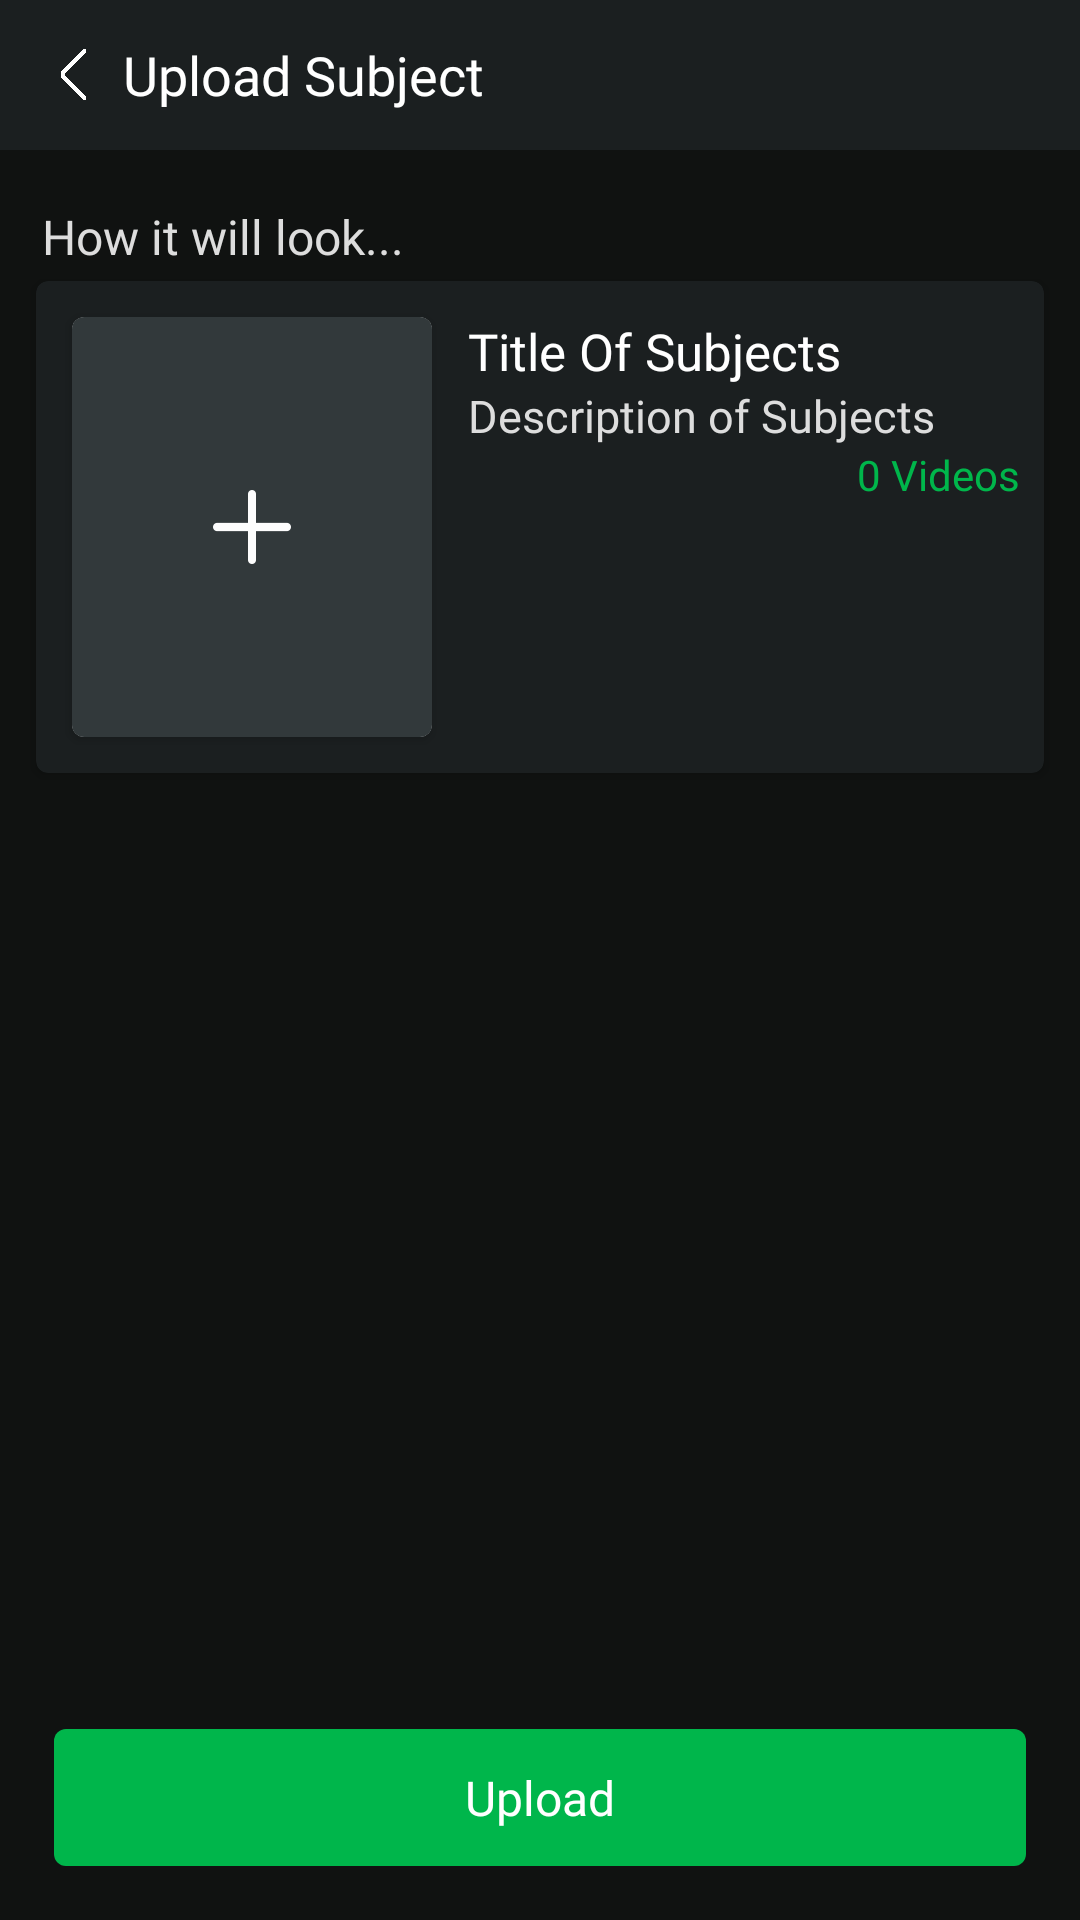

Point at icon controls on the screen. Image size 1080×1920, points as [x,y].
back: [73,74]
